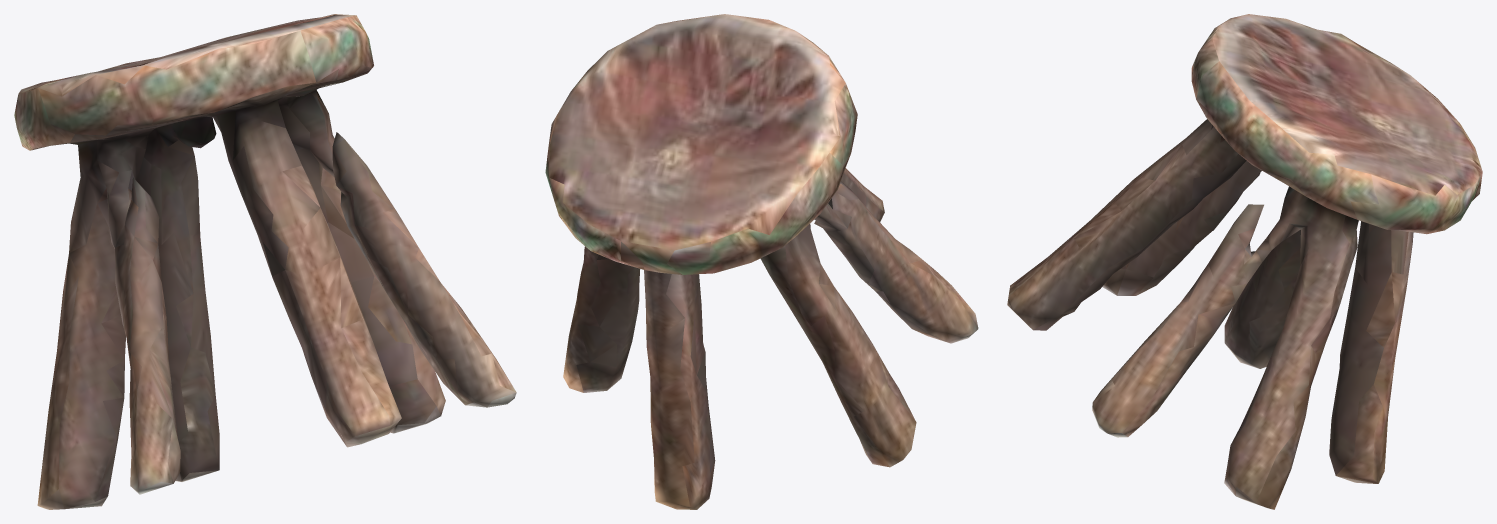
File: council_stool.glb
The picture shows the model from 3 angles, left to right: view 1: azimuth 30°, elevation 25°; view 2: azimuth 150°, elevation 25°; view 3: azimuth 270°, elevation 25°; orthographic projection. The views are drawn at different scales.
Visible parts, largest first — view 1: geometry_0; view 2: geometry_0; view 3: geometry_0.
Boxes of the visible parts, bbox=[...] form: geometry_0: bbox=[14, 14, 516, 509]; geometry_0: bbox=[545, 14, 978, 509]; geometry_0: bbox=[1007, 14, 1482, 509].
Bounding box in the file's own units: 0.3777 × 0.45 × 0.4488.
1 material, 1 textured.
